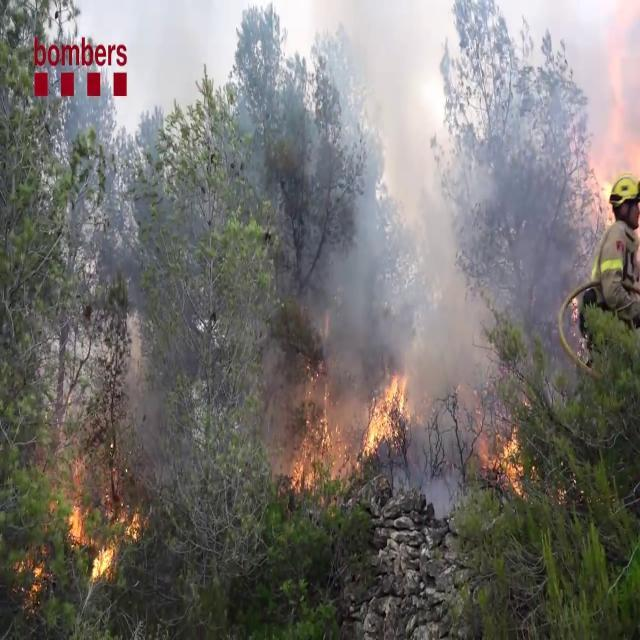Fire: (61, 458, 145, 592), (283, 366, 347, 504), (361, 364, 416, 460), (482, 422, 528, 498)
Smoke: (277, 2, 533, 454)
